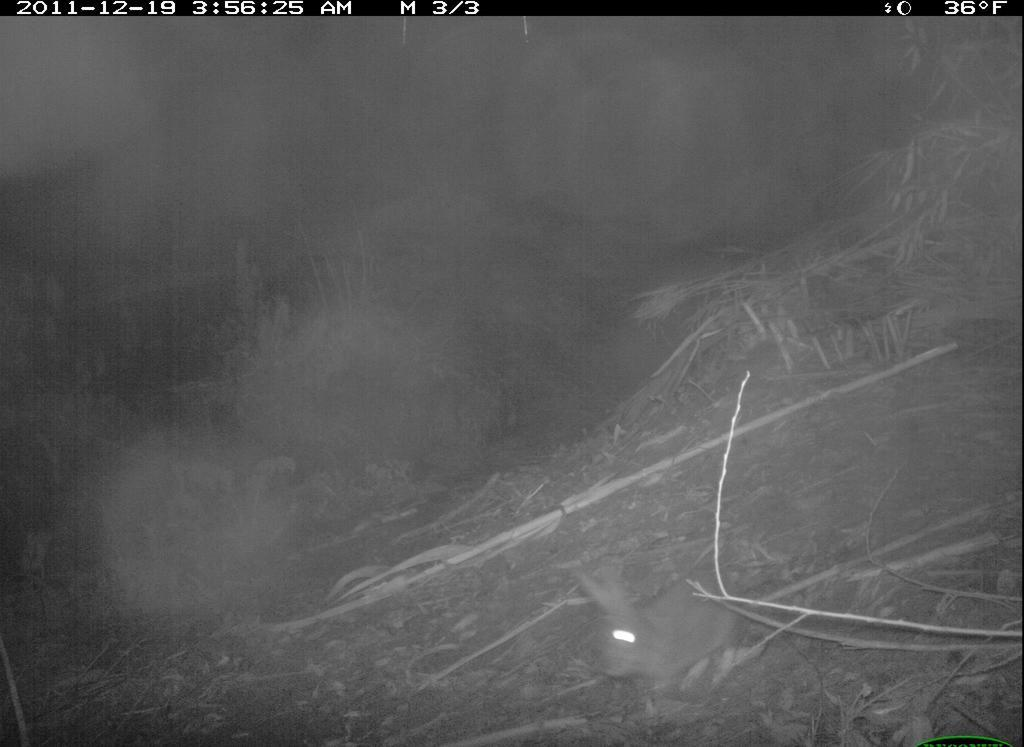rabbit: (579, 548, 756, 710)
